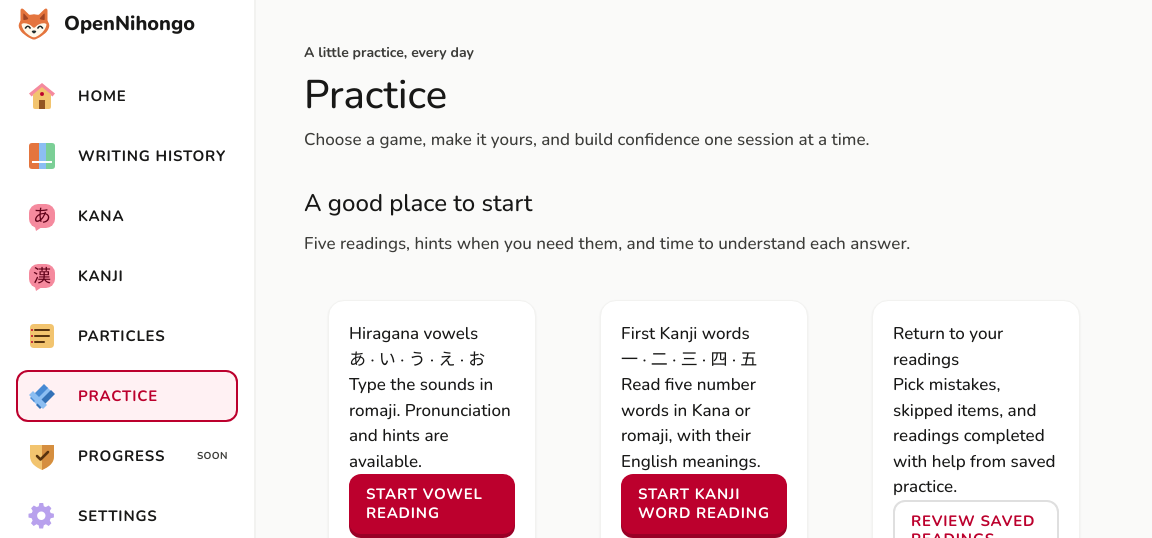
Test: carries a chart section through the hub into game setup
The width and height of the screenshot is (1152, 538).
Expected: the heading "Practice" is shown, [304,68,447,122]
Click the link "あ Kana": (75, 216) [26,200,124,232]
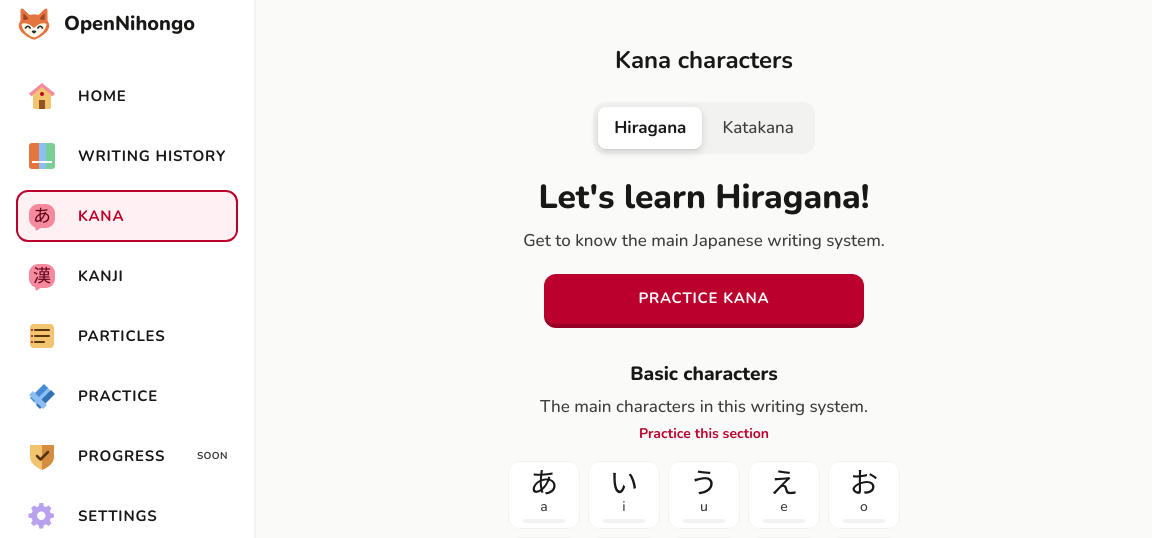
Result: the heading "Kana characters" is shown at [615,44,793,76]
Click the radio button labelled "Katakana": (758, 128) [706,107,810,148]
(page scrolled)
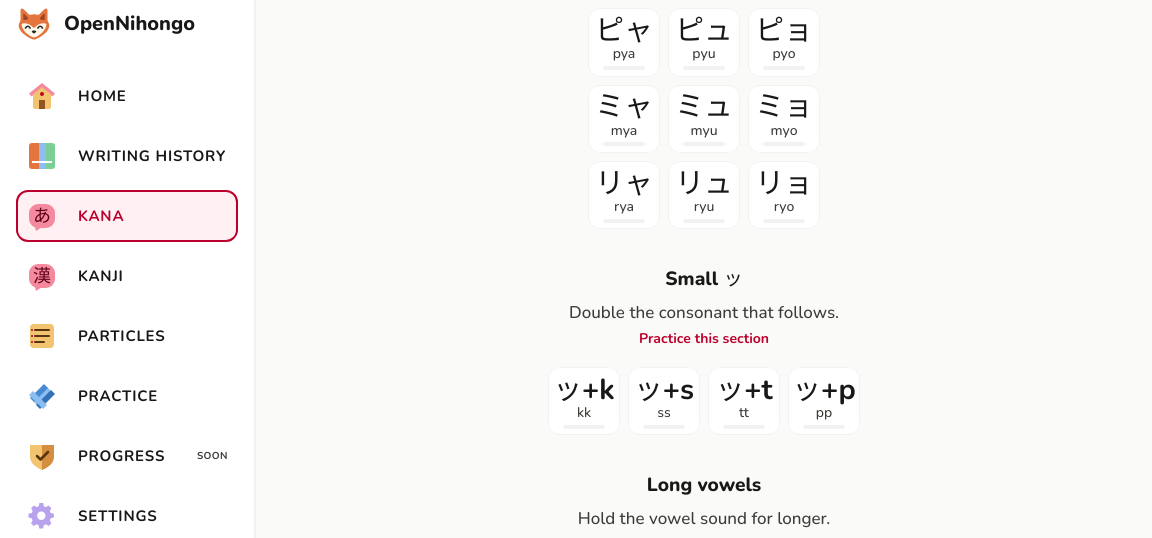
Click the link "Practice this section" below "Double the consonant that follows.": (704, 339) [639,329,769,348]
(page scrolled)
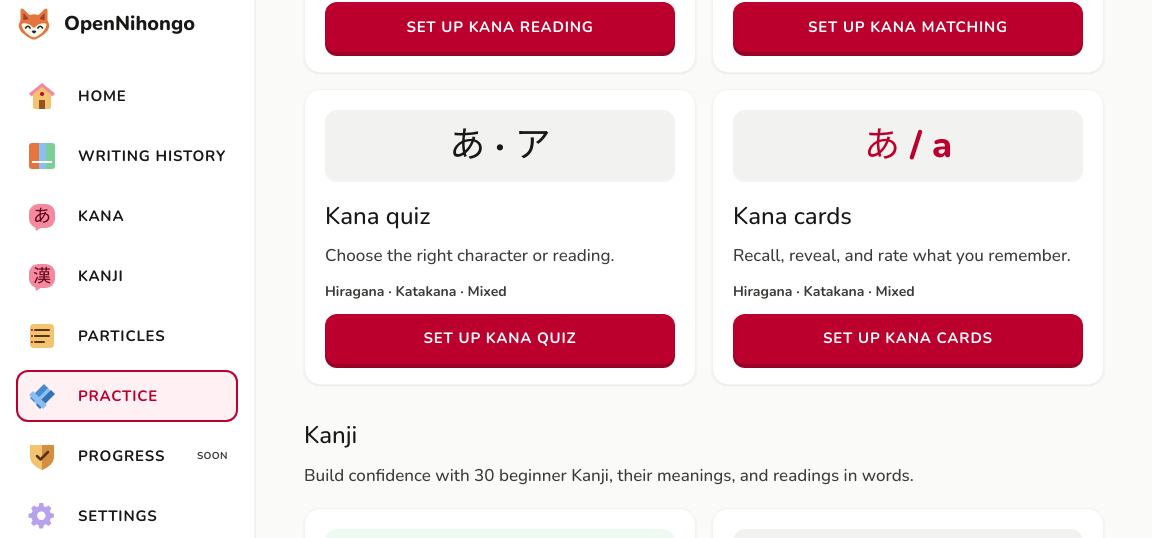
Click the link "Set up Kana quiz": (500, 339) [325,314,675,364]
(page scrolled)
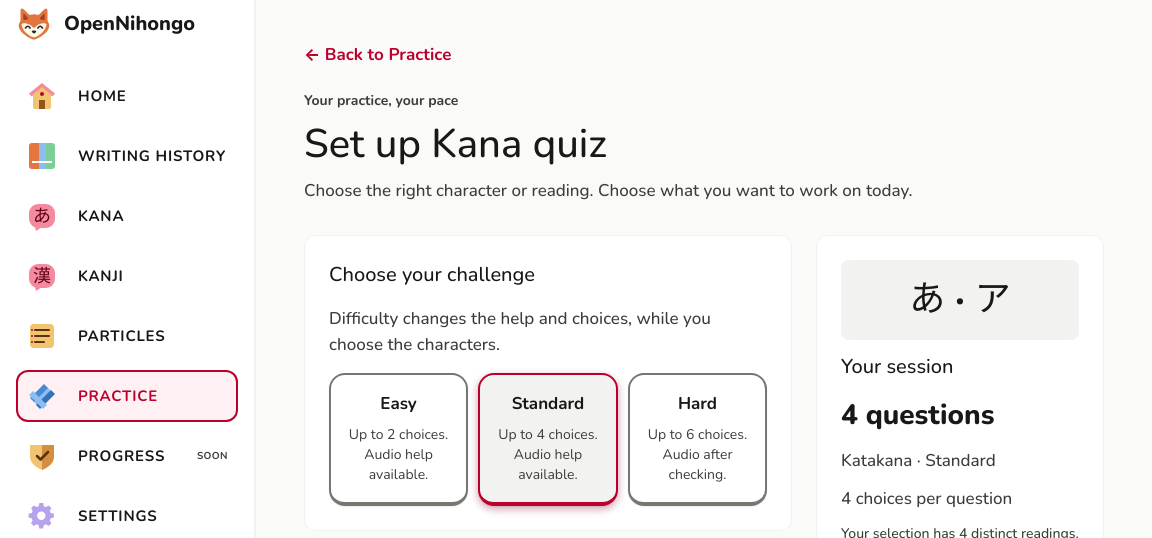
Result: the text "4 questions" is shown at [841,396,994,434]
